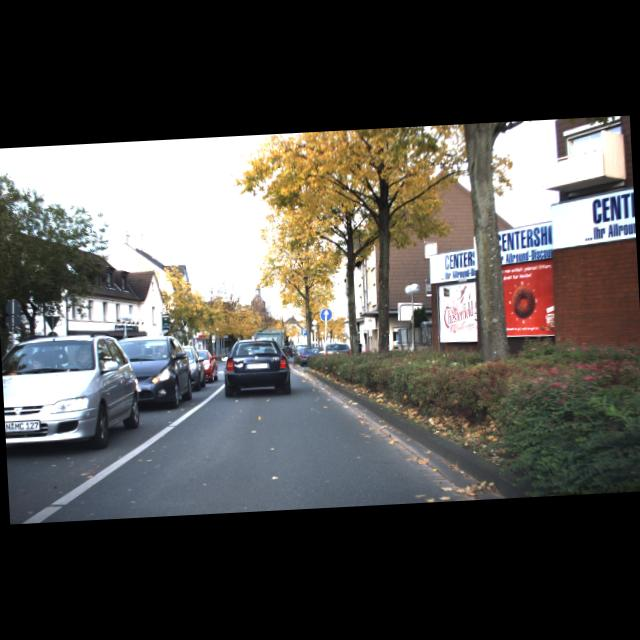mandatory: (320, 308, 334, 322)
